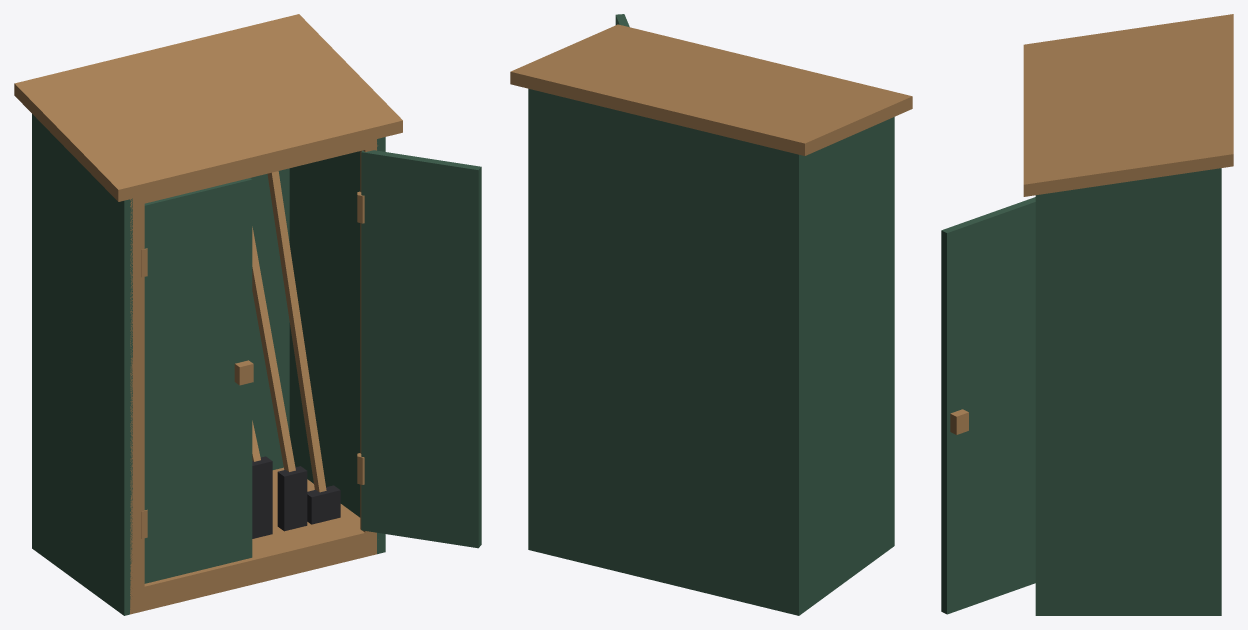
The model's file is FN_Store_Tool.glb.
3 renders of one model, left to right at view 1: azimuth 30°, elevation 25°; view 2: azimuth 150°, elevation 25°; view 3: azimuth 270°, elevation 25°, orthographic. The views are drawn at different scales.
Visible parts, largest first — view 1: FN_Store_Tool; view 2: FN_Store_Tool; view 3: FN_Store_Tool.
Part boxes in pixels (bbox=[...]): FN_Store_Tool: bbox=[14, 14, 481, 615]; FN_Store_Tool: bbox=[510, 14, 912, 615]; FN_Store_Tool: bbox=[941, 14, 1233, 615].
Bounding box in the file's own units: 1.13 × 1.52 × 0.8633.
1 material, 1 textured.
